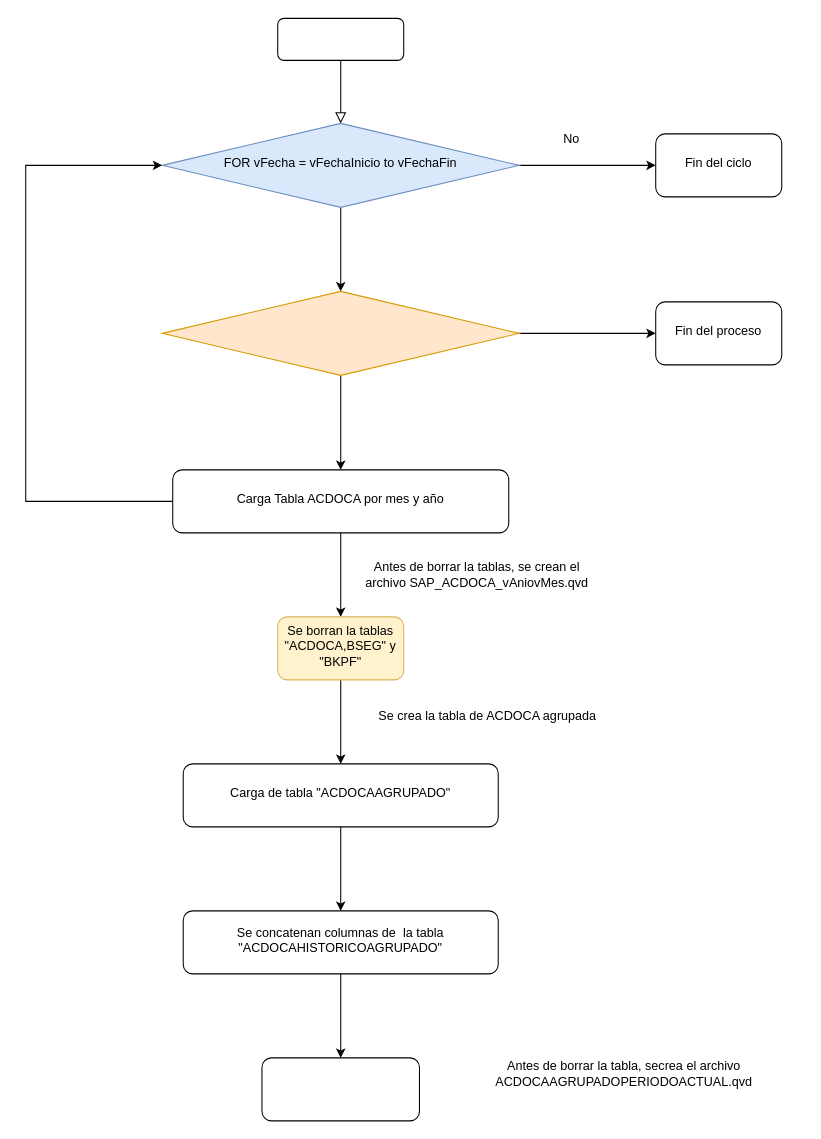
Image size: 821x1139. Some labels were removed from this diagram. The shapes that lost their labels are listed below. From the top down, each one's box as (x1, y1, x2, y2) in pixels, then its label:
(277, 17, 404, 60): Carga Tabla ACDOCA
(161, 290, 519, 375): vMes >= 0 and vMes <= 12
(261, 1057, 419, 1121): Se borra la tabla "ACDOCAAGRUPADO"
